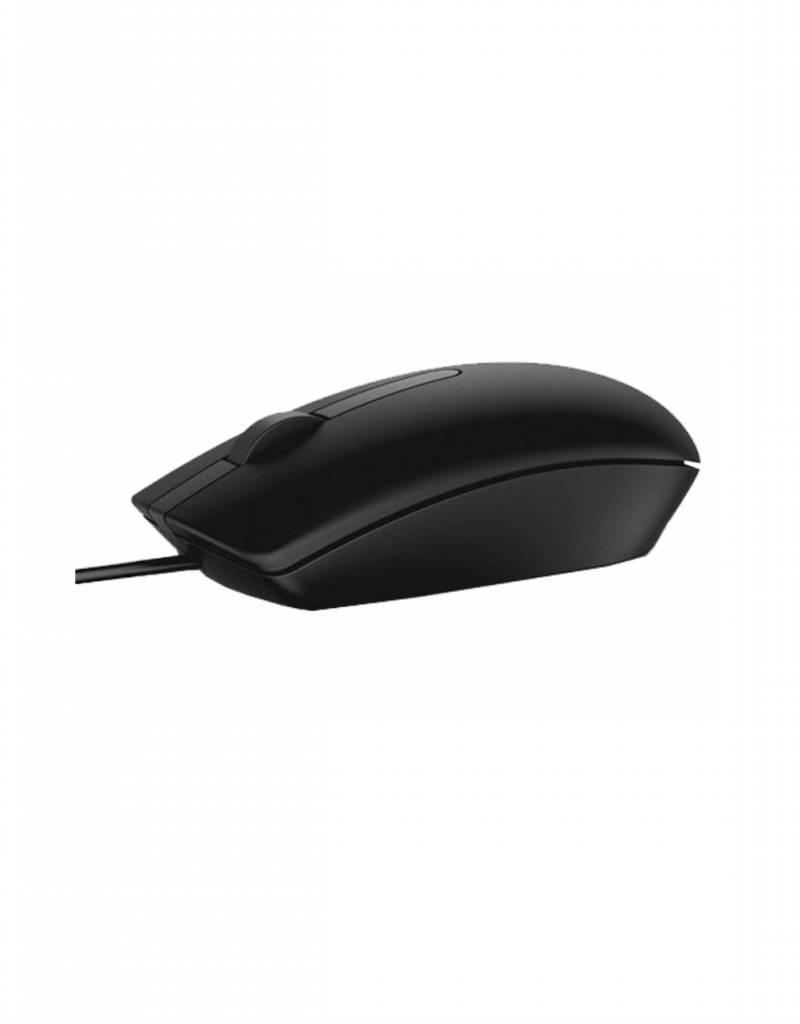dell-mouse-ms116: (73, 350, 715, 617)
